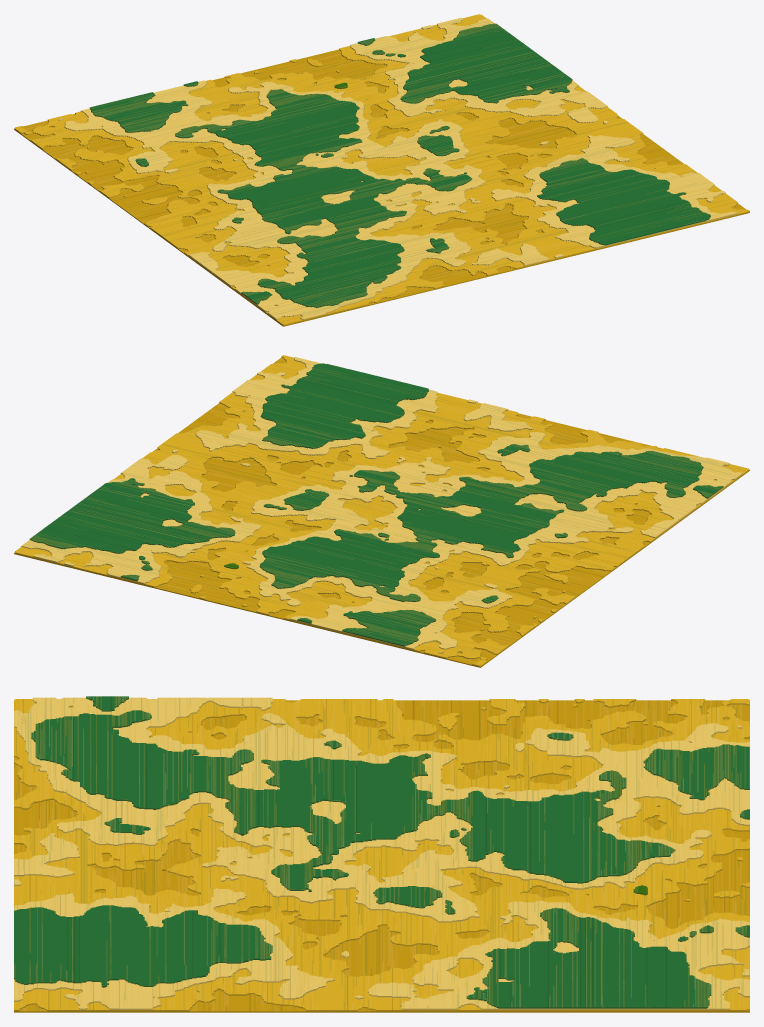
Rendered from terrain4.fbx.
The picture shows the model from 3 angles, top to bottom: view 1: azimuth 30°, elevation 25°; view 2: azimuth 150°, elevation 25°; view 3: azimuth 270°, elevation 25°; orthographic projection. The views are drawn at different scales.
Visible parts, largest first — view 1: Terrain; view 2: Terrain; view 3: Terrain.
Boxes of the visible parts, x1,y1,x2,y2 form: Terrain: [14, 14, 749, 326]; Terrain: [14, 355, 749, 667]; Terrain: [14, 696, 749, 1012].
Bounding box in the file's own units: 512 × 4 × 512.
1 material, 1 textured.
